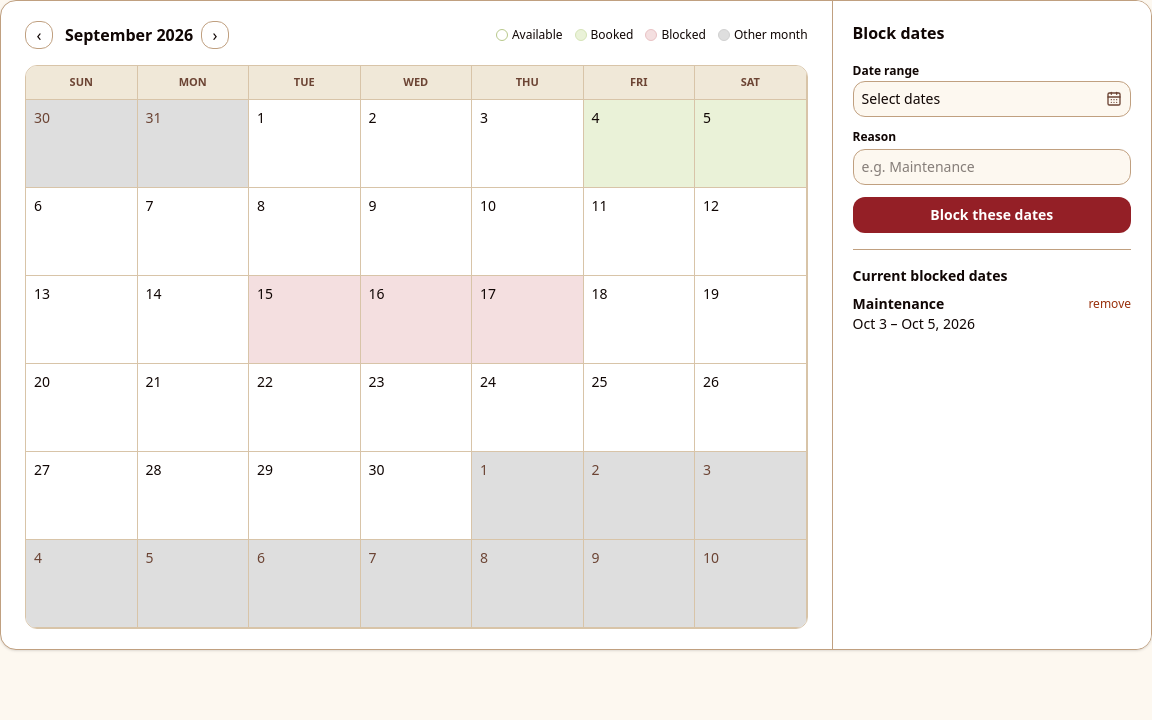
Host calendar and requests › navigates between full month grids locally
What coordinates should you click on to do the following:
click the button named "Next month"
I would click on:
 (215, 35)
Its box is [201, 21, 229, 49].
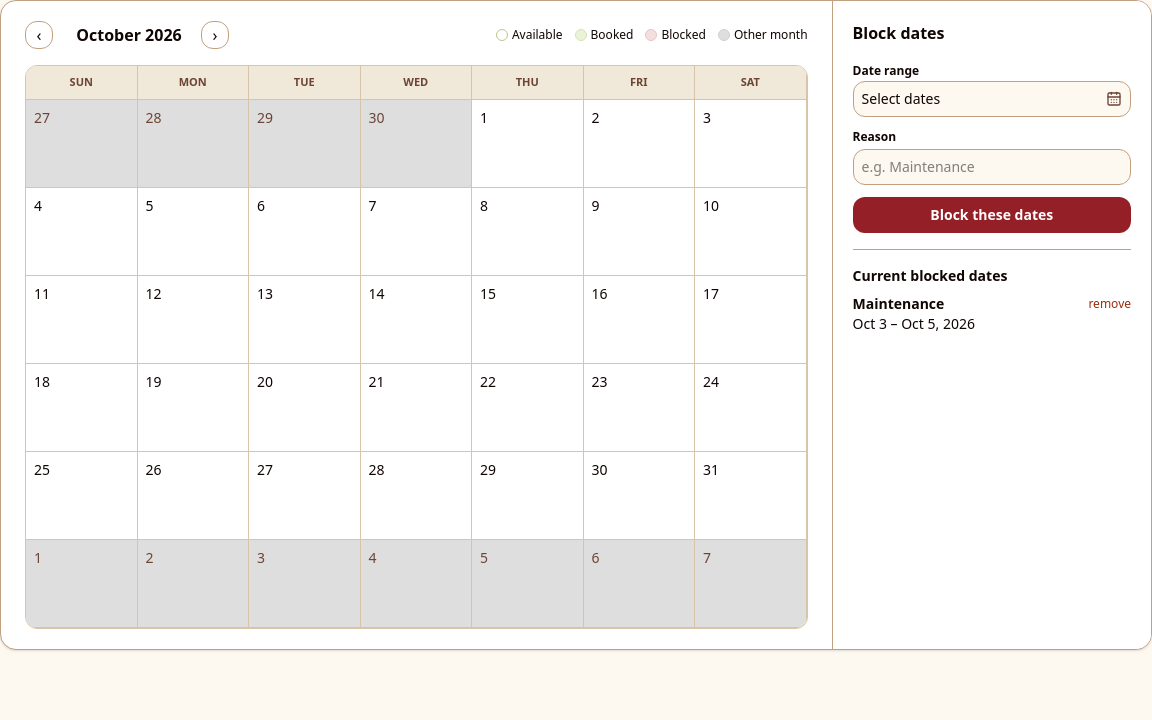
Expected: the heading "October 2026" is shown, [76, 24, 182, 46]
What coordinates should you click on to do the following:
click the button named "Previous month"
I would click on:
 (39, 35)
Its box is [25, 21, 53, 49].
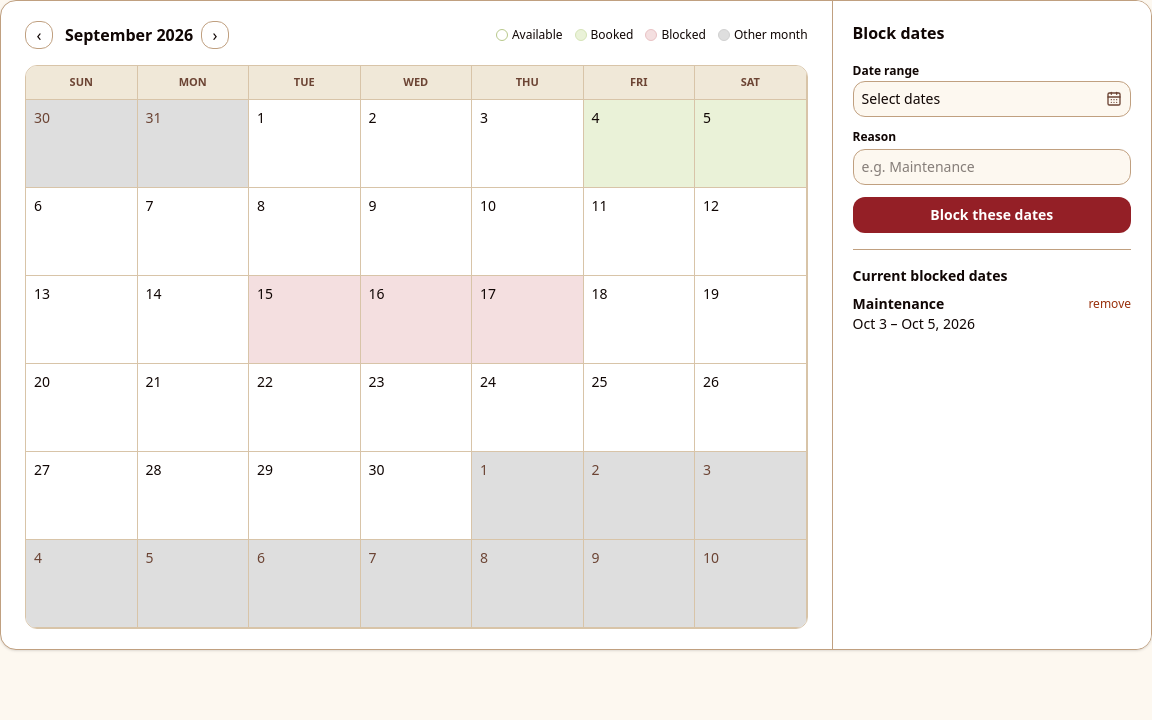
Expected: the heading "September 2026" is shown, [57, 25, 201, 45]
